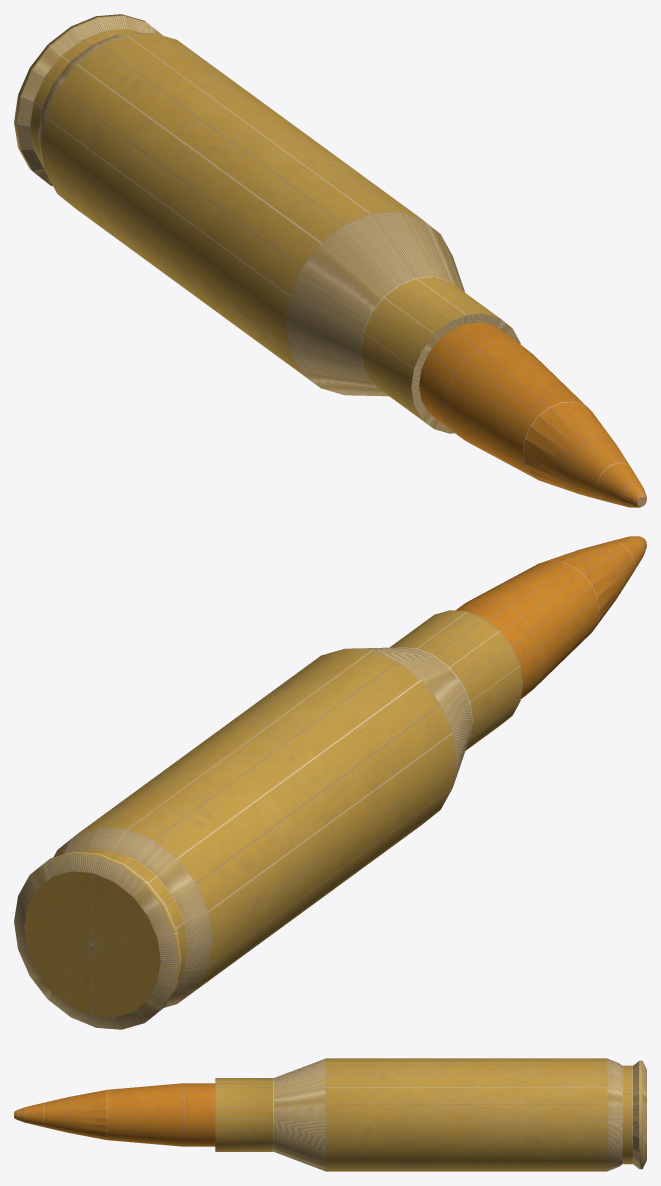
File: Bullet.fbx
3 renders of one model, top to bottom at view 1: azimuth 30°, elevation 25°; view 2: azimuth 150°, elevation 25°; view 3: azimuth 270°, elevation 25°, orthographic. The views are drawn at different scales.
Parts seen in each view (by area): view 1: pCylinder1; view 2: pCylinder1; view 3: pCylinder1.
Part boxes in pixels (x1,y1,x2,y2): pCylinder1: [14, 14, 646, 507]; pCylinder1: [14, 536, 646, 1029]; pCylinder1: [14, 1058, 646, 1171].
Size of the model in its own units: 0.7038 by 0.7038 by 3.91.
1 material, 1 textured.
